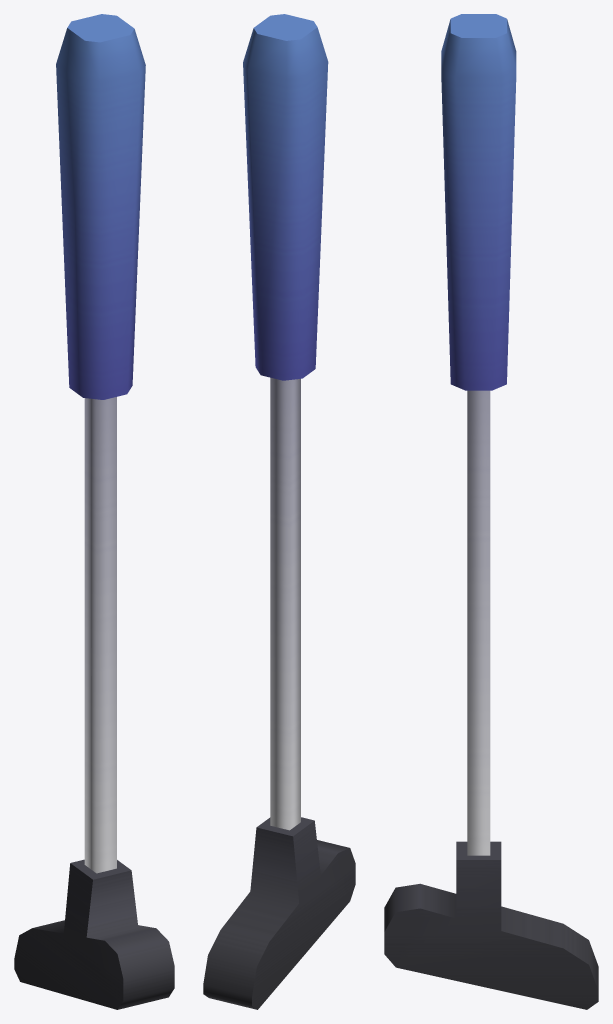
File: club-blue.glb
The picture shows the model from 3 angles, left to right: view 1: azimuth 30°, elevation 25°; view 2: azimuth 150°, elevation 25°; view 3: azimuth 270°, elevation 25°; orthographic projection. The views are drawn at different scales.
Visible parts, largest first — view 1: club-blue; view 2: club-blue; view 3: club-blue.
Boxes of the visible parts, bbox=[...] form: club-blue: bbox=[14, 14, 174, 1009]; club-blue: bbox=[203, 14, 355, 1009]; club-blue: bbox=[384, 14, 598, 1009].
Size of the model in its own units: 0.0738 by 1.05 by 0.2102.
1 material, 1 textured.
